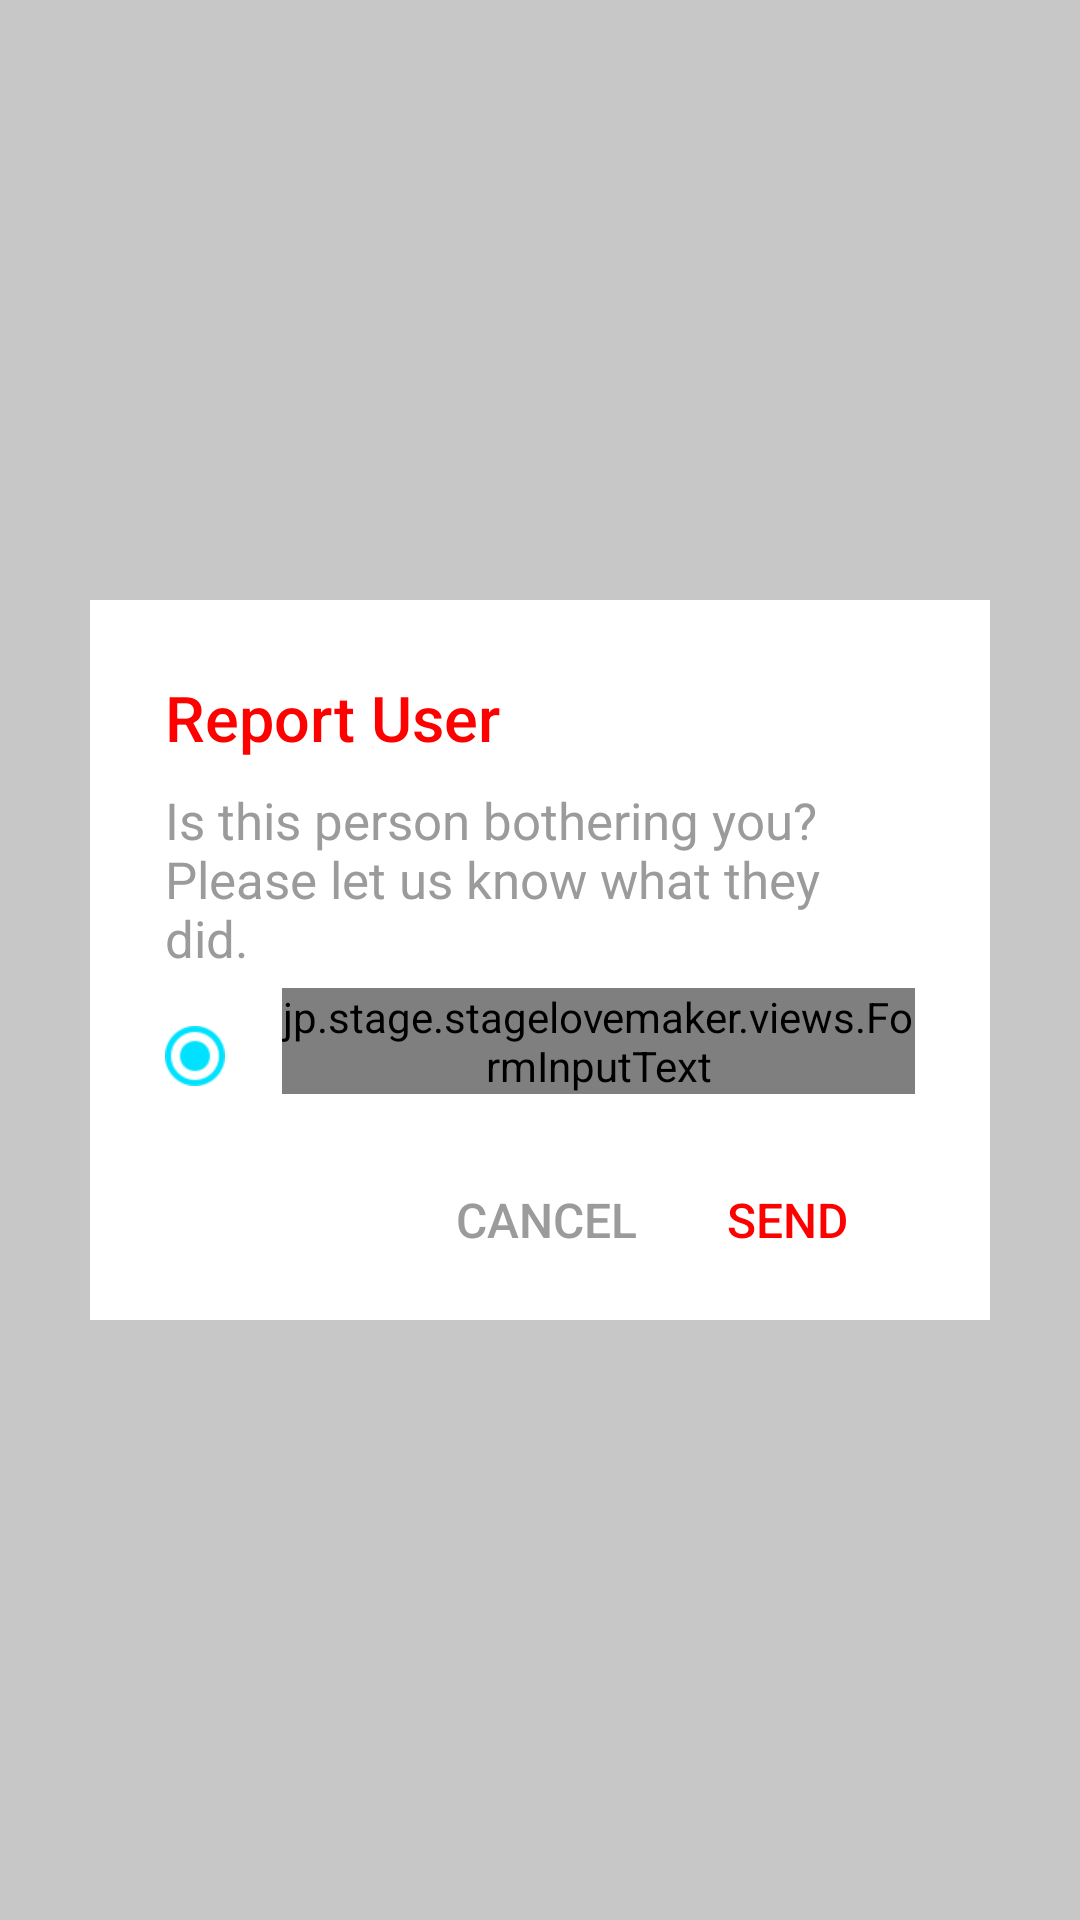

Icon bounding boxes for this 1080 x 1920 phone screenshot, format detection(x1, y1, x2, y2):
radio check: detection(165, 1026, 225, 1086)
